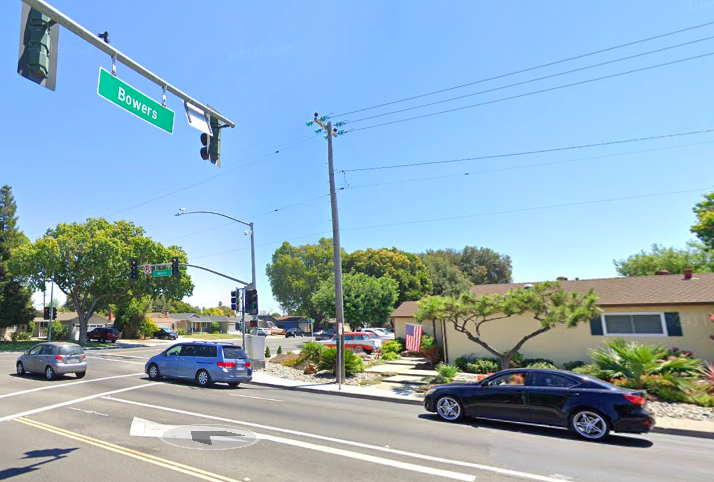tree: (6, 214, 196, 344)
utility_pole: (301, 104, 352, 167)
